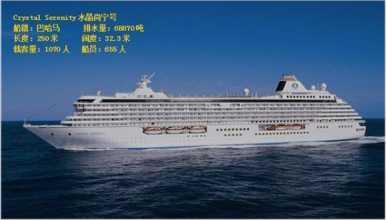youlun: (24, 72, 367, 151)
